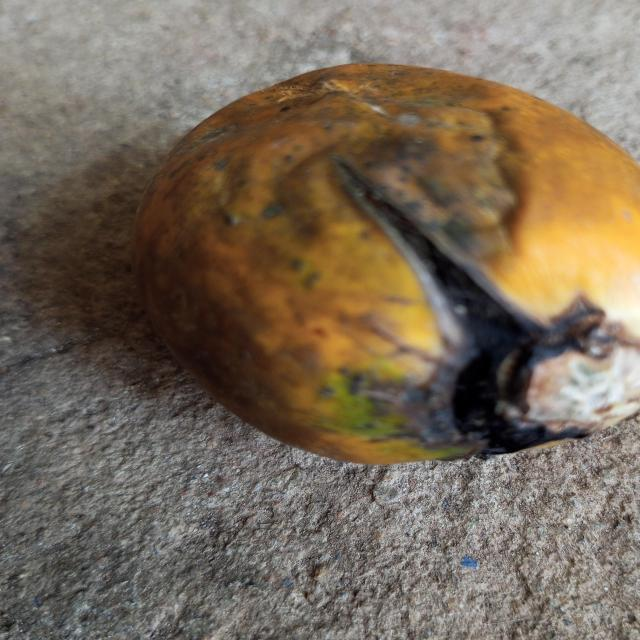damaged: (133, 64, 640, 464)
